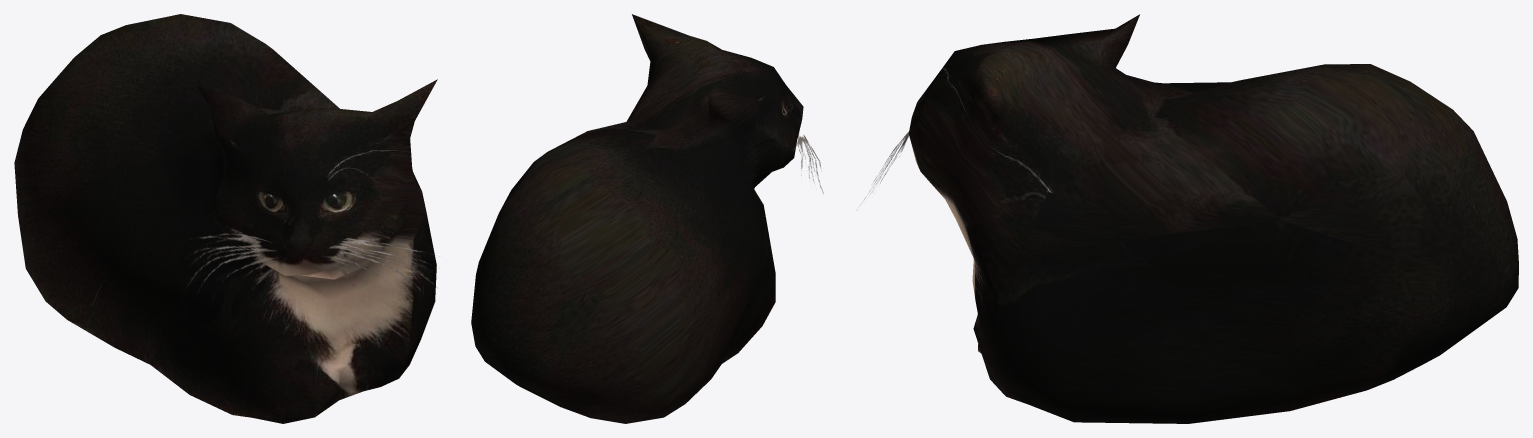
3 views of the same model, side by side, from view 1: azimuth 30°, elevation 25°; view 2: azimuth 150°, elevation 25°; view 3: azimuth 270°, elevation 25° (orthographic). The views are drawn at different scales.
Visible parts, largest first — view 1: Maxwell, whiskers; view 2: Maxwell, whiskers; view 3: Maxwell.
Part boxes in pixels (box(x1,y1,x2,y2)): Maxwell: box(14, 14, 437, 423); whiskers: box(186, 229, 434, 291); Maxwell: box(471, 14, 803, 423); whiskers: box(796, 132, 823, 193); Maxwell: box(908, 14, 1518, 423).
Size of the model in its own units: 2.06 by 2.45 by 4.23.
Materials: 2 (2 with a texture image).
